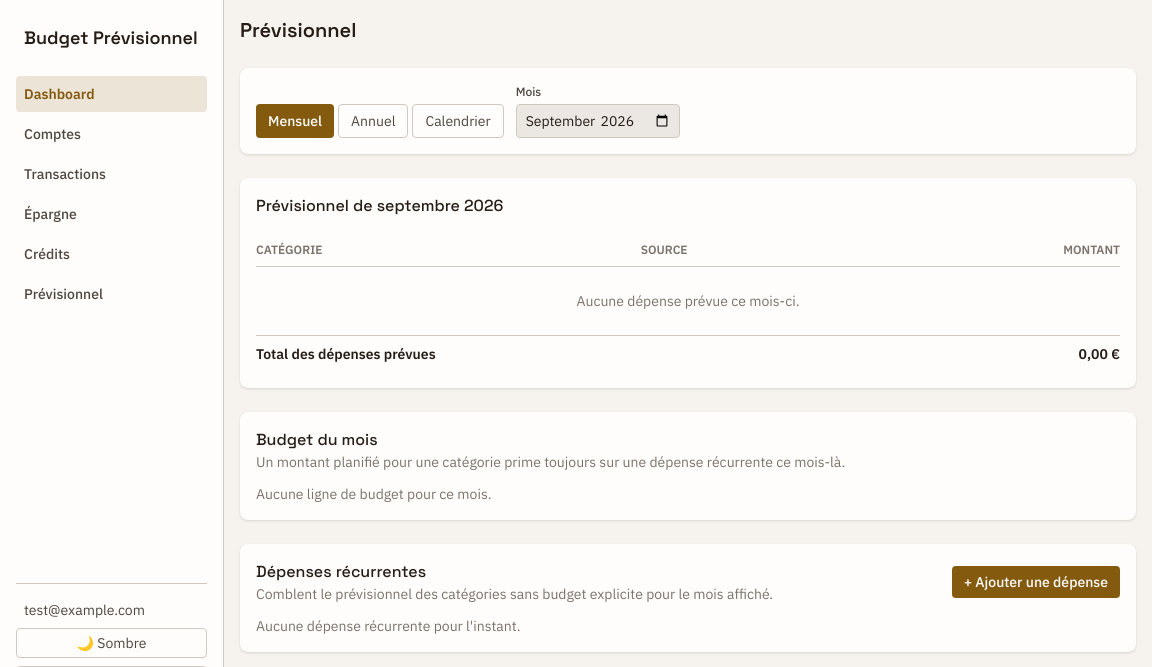
Test case: ForecastPage › shows an empty state on the calendar month view when nothing is due
This screenshot has width=1152, height=667.
Expected: the text "Aucune dépense prévue ce mois-ci." is shown, [256,266,1120,336]
What coordinates should you click on to do the following:
click the button "Calendrier"
I would click on:
 (458, 121)
Its box is [412,104,504,138].
(page scrolled)
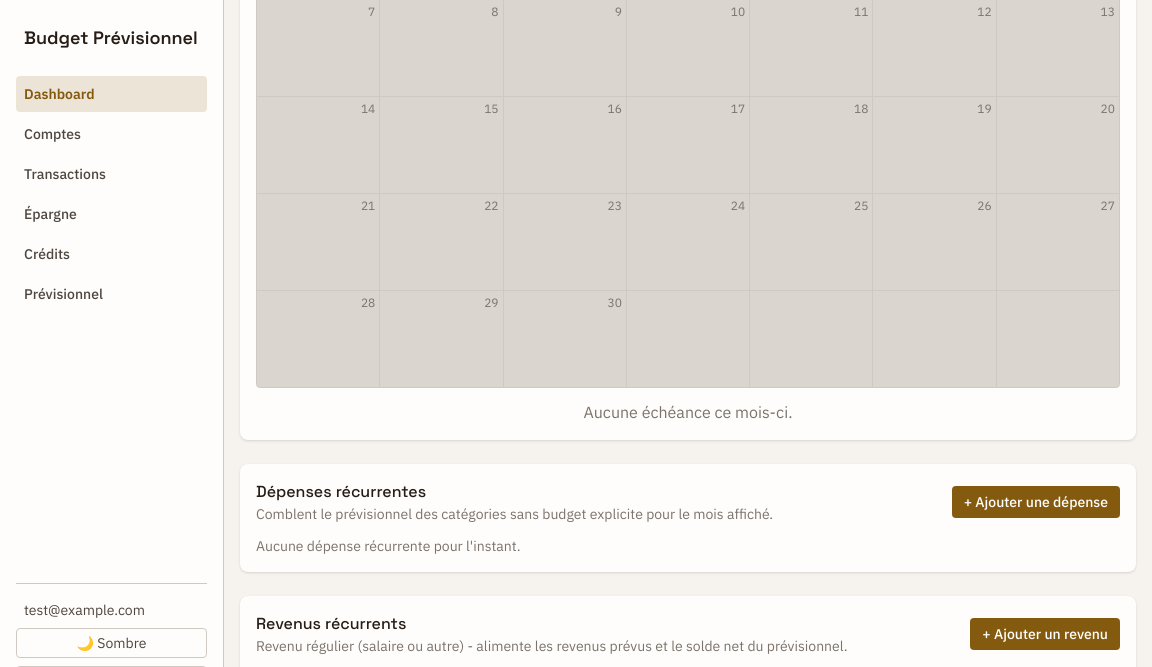
Expected: the text "Aucune échéance ce mois-ci." is shown, [584,402,792,422]
